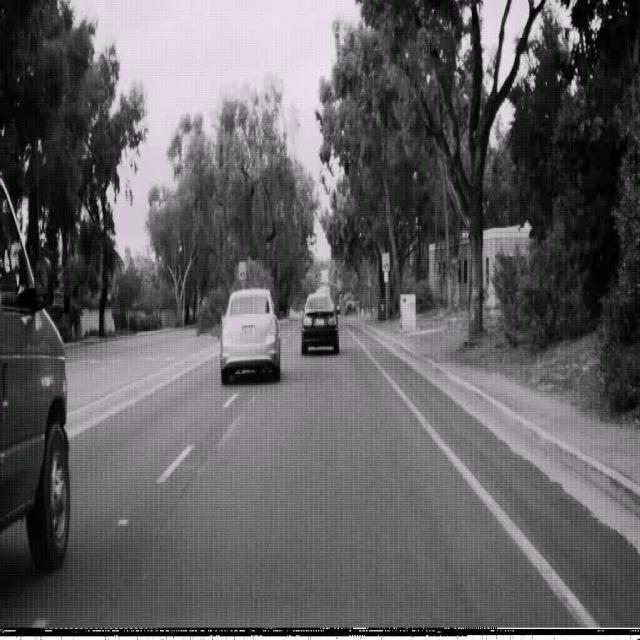speedLimit45: (238, 261, 246, 281), (382, 252, 389, 272)
